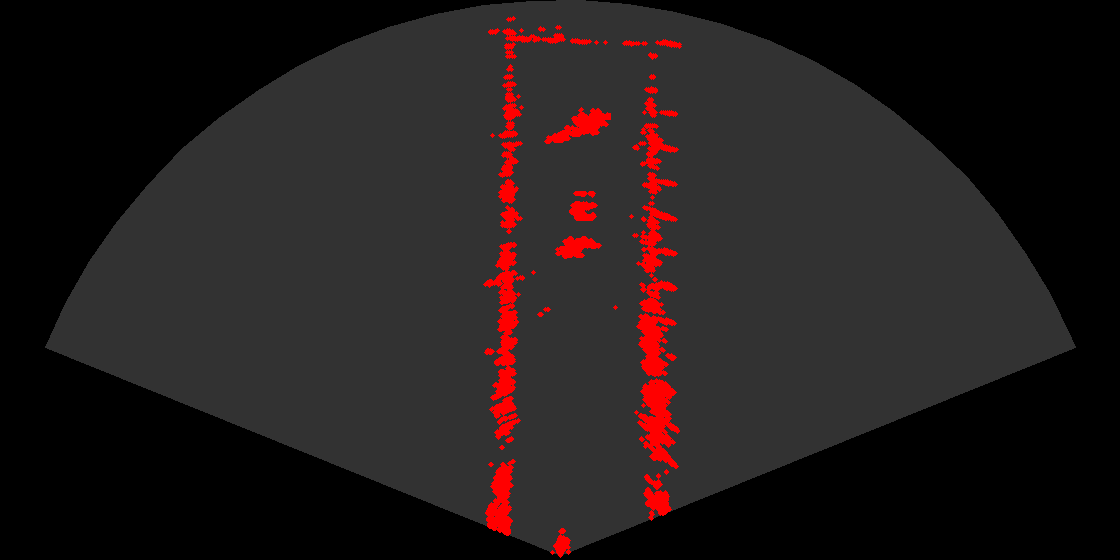AUV: (549, 234, 605, 266)
ball: (549, 183, 609, 224)
frogman: (543, 101, 611, 148)
